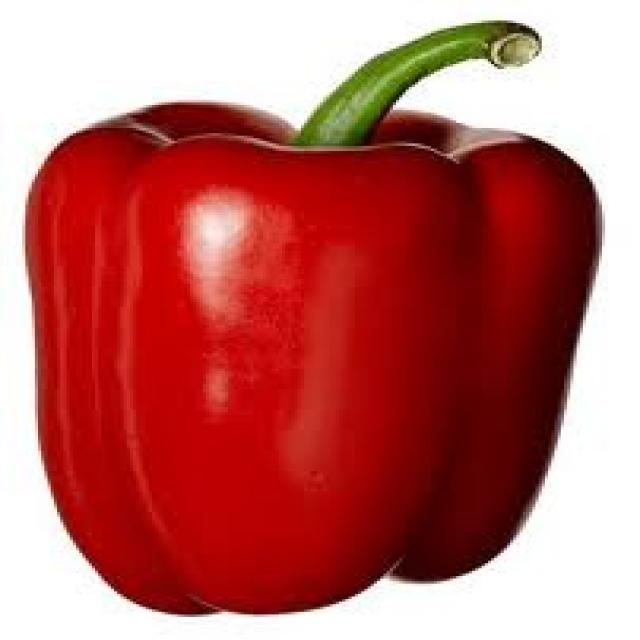capsicum: (10, 13, 628, 637)
